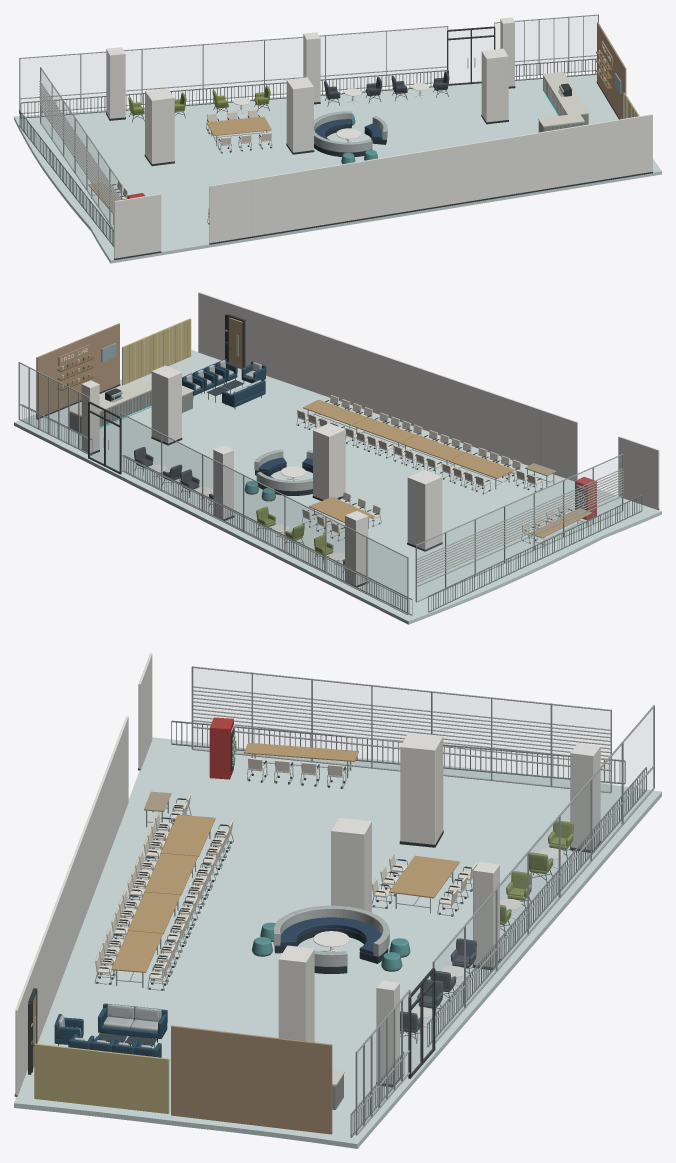
Rendered from viewer-cafe-north.glb.
3 renders of one model, top to bottom at view 1: azimuth 30°, elevation 25°; view 2: azimuth 150°, elevation 25°; view 3: azimuth 270°, elevation 25°, orthographic. The views are drawn at different scales.
Visible parts, largest first — view 1: cafe-north-architecture-011, cafe-north-ground-045, cafe-north-architecture-018, cafe-north-architecture-007, cafe-north-architecture-028, cafe-north-architecture-009, cafe-north-architecture-012, cafe-north-architecture-031, cafe-north-furniture-029, cafe-north-furniture-019, cafe-north-furniture-006, cafe-north-furniture-021 (+7 smaller); view 2: cafe-north-ground-045, cafe-north-architecture-011, cafe-north-architecture-018, cafe-north-architecture-007, cafe-north-architecture-028, cafe-north-furniture-006, cafe-north-architecture-031, cafe-north-furniture-005, cafe-north-architecture-012, cafe-north-architecture-023, cafe-north-furniture-016, cafe-north-furniture-010 (+10 smaller); view 3: cafe-north-ground-045, cafe-north-architecture-018, cafe-north-architecture-011, cafe-north-architecture-031, cafe-north-furniture-006, cafe-north-architecture-028, cafe-north-architecture-007, cafe-north-architecture-023, cafe-north-architecture-012, cafe-north-furniture-005, cafe-north-furniture-010, cafe-north-furniture-016 (+11 smaller).
Part boxes in pixels (x1=…): cafe-north-architecture-011: x1=106, y1=17, x2=652, y2=258; cafe-north-ground-045: x1=14, y1=73, x2=661, y2=263; cafe-north-architecture-018: x1=21, y1=16, x2=597, y2=227; cafe-north-architecture-007: x1=18, y1=58, x2=596, y2=246; cafe-north-architecture-028: x1=19, y1=14, x2=598, y2=229; cafe-north-architecture-009: x1=106, y1=26, x2=652, y2=259; cafe-north-architecture-012: x1=39, y1=81, x2=120, y2=211; cafe-north-architecture-031: x1=597, y1=22, x2=626, y2=119; cafe-north-furniture-029: x1=538, y1=71, x2=589, y2=126; cafe-north-furniture-019: x1=314, y1=111, x2=387, y2=152; cafe-north-furniture-006: x1=88, y1=116, x2=271, y2=212; cafe-north-furniture-021: x1=324, y1=71, x2=449, y2=99; cafe-north-ground-045: x1=14, y1=350, x2=661, y2=624; cafe-north-architecture-011: x1=81, y1=292, x2=659, y2=585; cafe-north-architecture-018: x1=20, y1=364, x2=621, y2=612; cafe-north-architecture-007: x1=22, y1=404, x2=642, y2=615; cafe-north-architecture-028: x1=18, y1=362, x2=623, y2=614; cafe-north-furniture-006: x1=303, y1=399, x2=591, y2=538; cafe-north-architecture-031: x1=36, y1=323, x2=119, y2=418; cafe-north-furniture-005: x1=297, y1=395, x2=568, y2=535; cafe-north-architecture-012: x1=416, y1=468, x2=623, y2=582; cafe-north-architecture-023: x1=122, y1=318, x2=190, y2=384; cafe-north-furniture-016: x1=182, y1=359, x2=266, y2=407; cafe-north-furniture-010: x1=111, y1=391, x2=587, y2=548; cafe-north-ground-045: x1=14, y1=737, x2=661, y2=1148; cafe-north-architecture-018: x1=193, y1=668, x2=653, y2=1131; cafe-north-architecture-011: x1=15, y1=653, x2=600, y2=1113; cafe-north-architecture-031: x1=171, y1=1025, x2=332, y2=1134; cafe-north-furniture-006: x1=111, y1=742, x2=459, y2=972; cafe-north-architecture-028: x1=191, y1=666, x2=654, y2=1135; cafe-north-architecture-007: x1=171, y1=720, x2=646, y2=1137; cafe-north-architecture-023: x1=34, y1=1043, x2=168, y2=1113; cafe-north-architecture-012: x1=193, y1=686, x2=610, y2=764; cafe-north-furniture-005: x1=95, y1=757, x2=477, y2=979; cafe-north-furniture-010: x1=94, y1=740, x2=472, y2=990; cafe-north-furniture-016: x1=54, y1=1003, x2=167, y2=1057.
Bounding box in the file's own units: 32.73 × 3.83 × 22.03.
